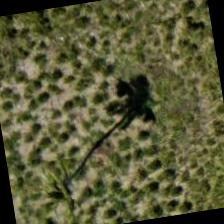Kelapa_Sawit: (19, 130, 123, 223)
